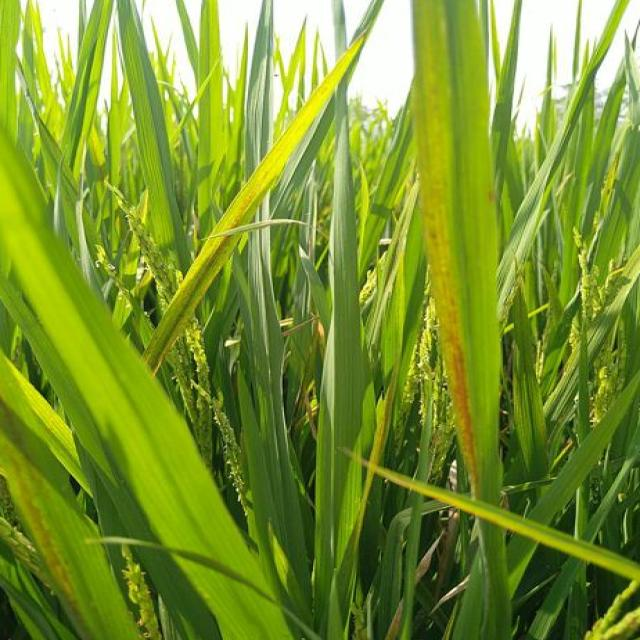Leaf Streak: (145, 34, 359, 371), (368, 468, 640, 586), (0, 431, 141, 640), (416, 0, 477, 479)
